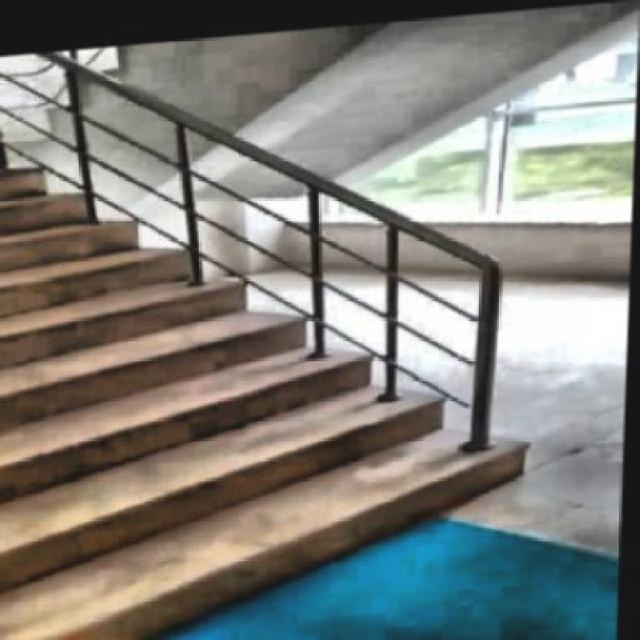stair: (2, 43, 569, 639)
